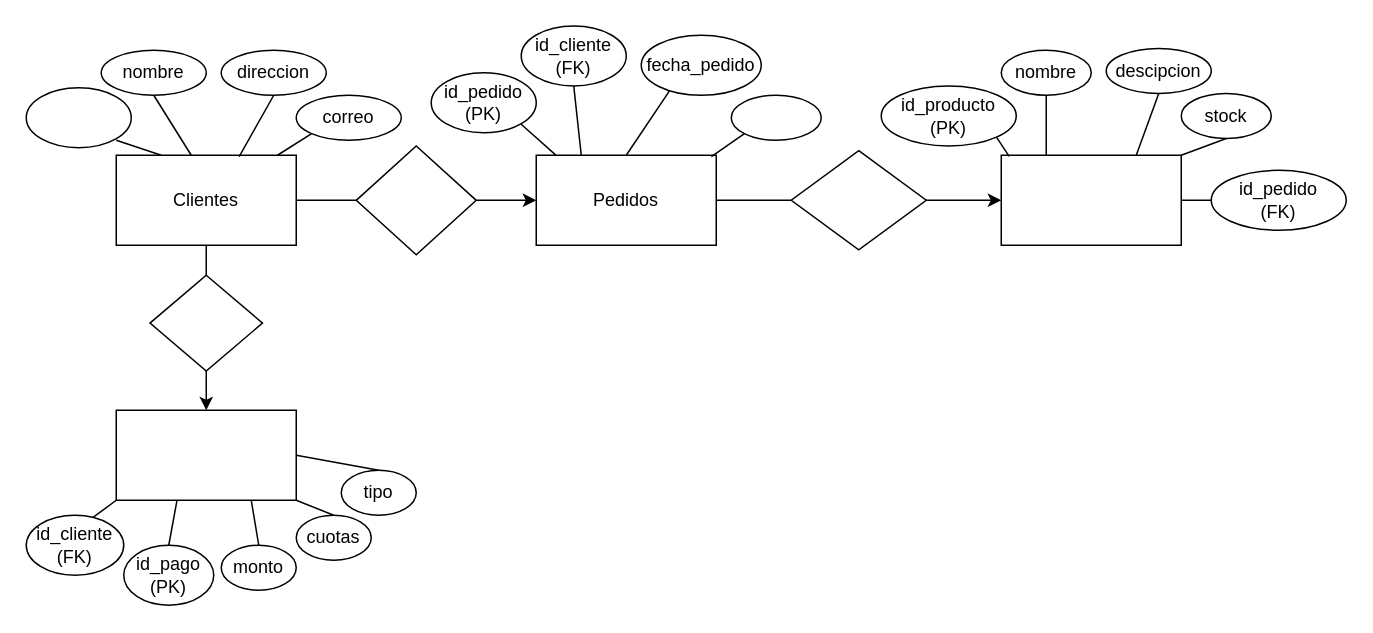
The diagram is 1373 pixels wide and 633 high, and some of its shapes have lost their labels. Here are the shapes that lost their labels. From the top down, the centre of each, then its label:
At (78,117): "id_cliente (PK)".
At (775,117): "cantidad".
At (415,199): "Realizan 1:N".
At (858,199): "Contienen 1:N".
At (1090,199): "Productos".
At (205,322): "Poseen 1:N".
At (205,454): "Metodos_pago".
